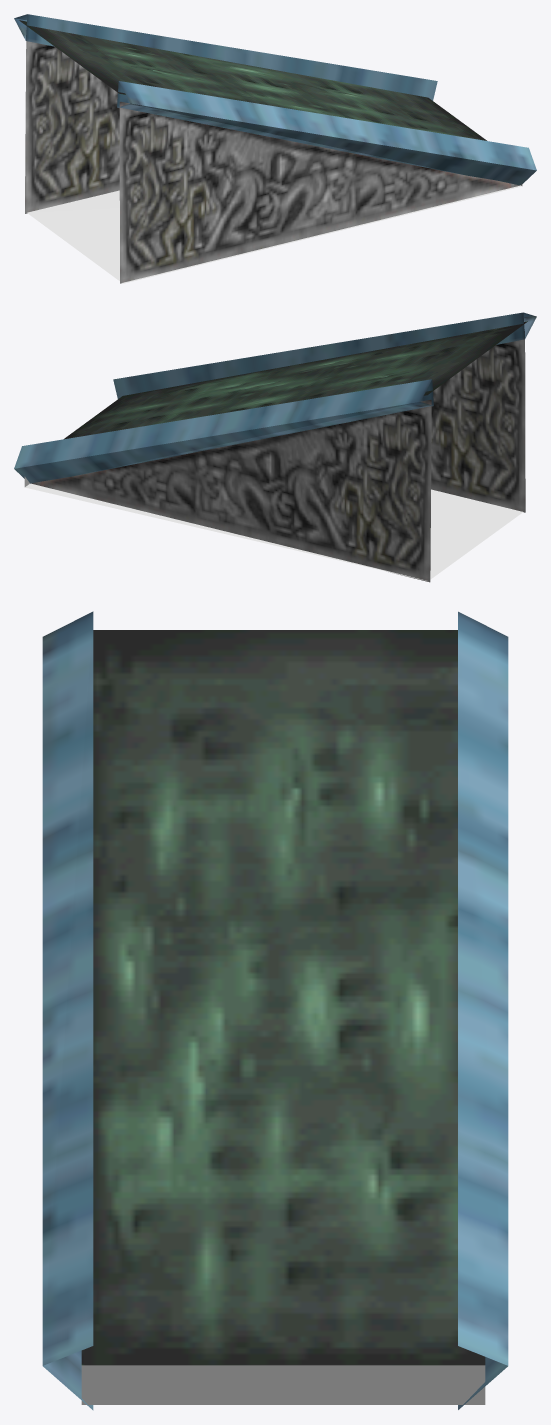
Rendered from Dach_TempelGiebel [Typen]_129.glb.
3 renders of one model, top to bottom at view 1: azimuth 30°, elevation 25°; view 2: azimuth 150°, elevation 25°; view 3: azimuth 270°, elevation 25°, orthographic. The views are drawn at different scales.
Parts seen in each view (by area): view 1: pPlaneShape11, pPlaneShape8, pCylinderShape5, pPlaneShape10, pCylinderShape4, pPlaneShape9; view 2: pPlaneShape10, pPlaneShape8, pCylinderShape4, pPlaneShape11, pCylinderShape5, pPlaneShape9; view 3: pPlaneShape8, pCylinderShape5, pCylinderShape4, polySurfaceShape1038.
Boxes of the visible parts, bbox=[...] form: pPlaneShape11: bbox=[119, 101, 519, 283]; pPlaneShape8: bbox=[19, 20, 486, 140]; pCylinderShape5: bbox=[117, 81, 536, 185]; pPlaneShape10: bbox=[25, 41, 119, 213]; pCylinderShape4: bbox=[14, 14, 437, 100]; pPlaneShape9: bbox=[27, 185, 521, 283]; pPlaneShape10: bbox=[31, 399, 431, 582]; pPlaneShape8: bbox=[64, 321, 527, 439]; pCylinderShape4: bbox=[14, 379, 433, 483]; pPlaneShape11: bbox=[431, 331, 525, 512]; pCylinderShape5: bbox=[113, 312, 536, 398]; pPlaneShape9: bbox=[25, 483, 522, 580]; pPlaneShape8: bbox=[81, 630, 485, 1365]; pCylinderShape5: bbox=[42, 611, 93, 1410]; pCylinderShape4: bbox=[458, 611, 508, 1409]; polySurfaceShape1038: bbox=[81, 1365, 485, 1404].
Size of the model in its own units: 1.04 by 0.4933 by 0.5109.
Materials: 7 (5 with a texture image).
